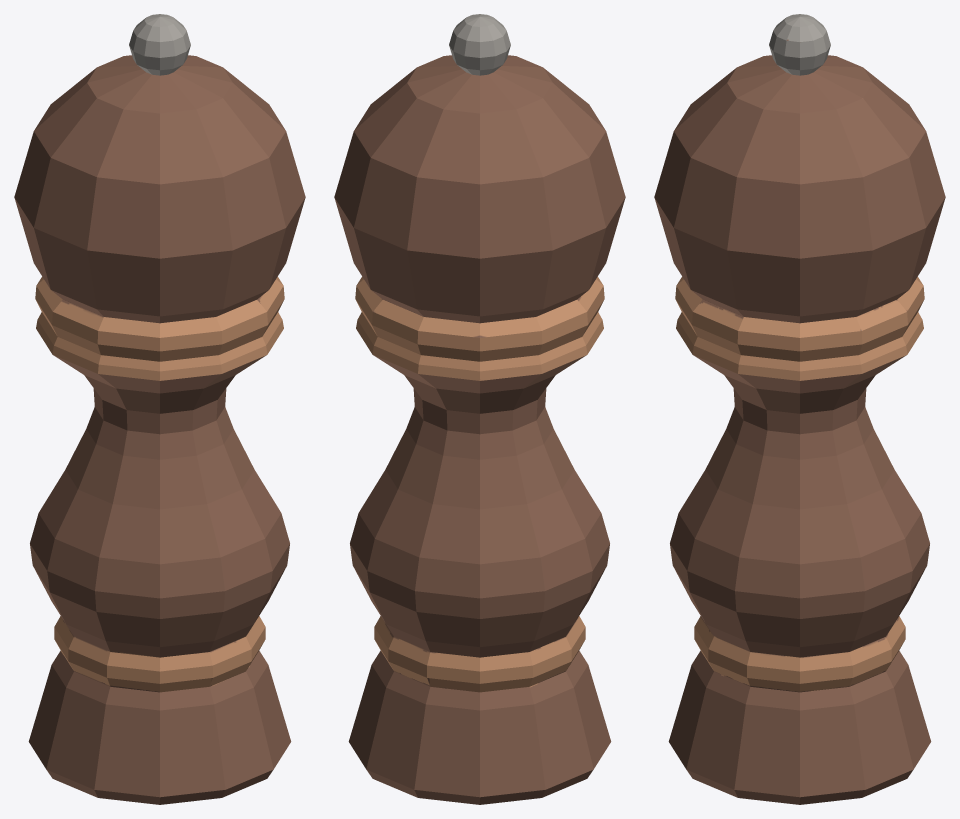
File: 胡椒研磨1_塗色完成.fbx
3 renders of one model, left to right at view 1: azimuth 30°, elevation 25°; view 2: azimuth 150°, elevation 25°; view 3: azimuth 270°, elevation 25°, orthographic.
Parts seen in each view (by area): view 1: Circle.004; view 2: Circle.004; view 3: Circle.004.
Part boxes in pixels (box(x1,y1,x2,y2)): Circle.004: box(14, 14, 305, 804); Circle.004: box(334, 14, 625, 804); Circle.004: box(654, 14, 945, 804).
Bounding box in the file's own units: 36.21 × 101 × 36.21.
